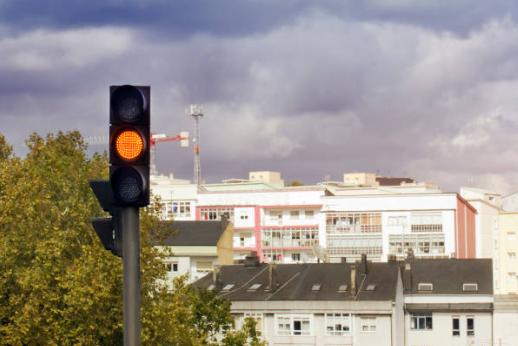yellow_light: (109, 85, 151, 209)
